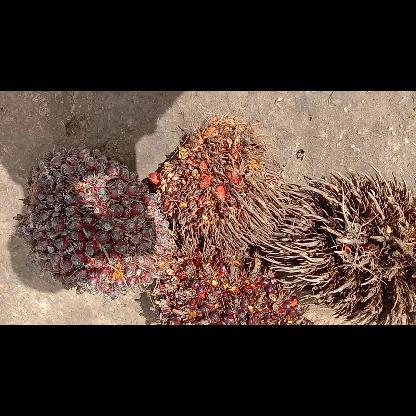Janjang kosong: (259, 162, 415, 324)
Kurang masak: (14, 144, 180, 298)
TBS masak: (148, 240, 318, 324)
Terlalu masak: (143, 115, 291, 258)
